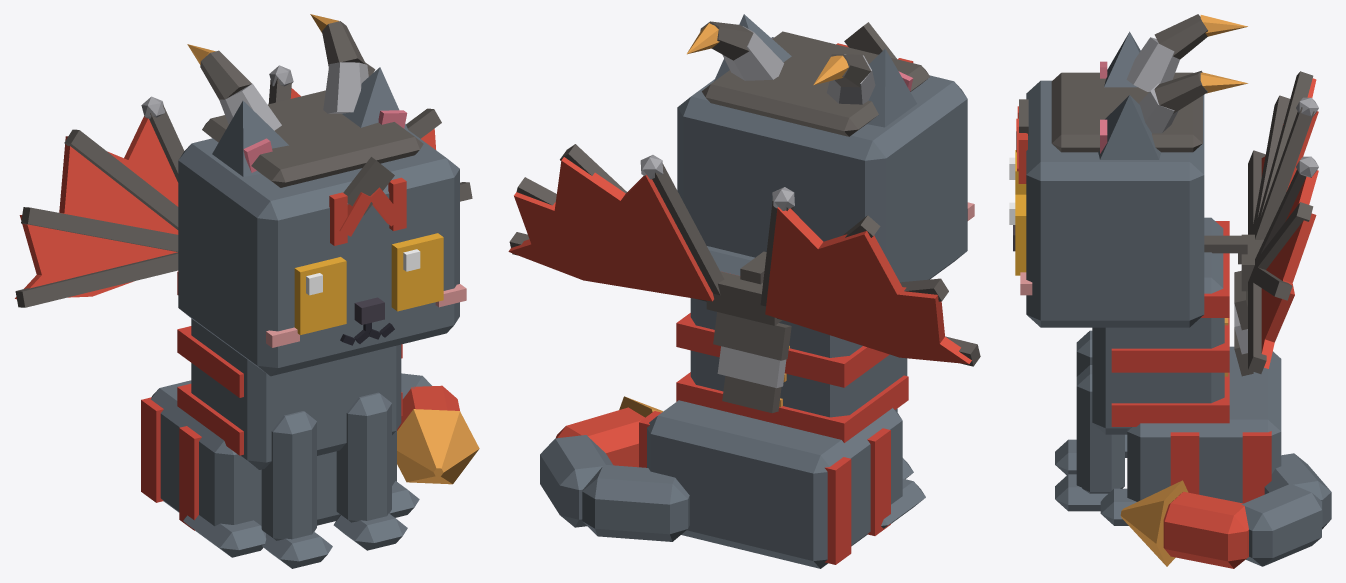
The model's file is CatCafe_Cat_DragonKnight_Sit.glb.
The picture shows the model from 3 angles, left to right: view 1: azimuth 30°, elevation 25°; view 2: azimuth 150°, elevation 25°; view 3: azimuth 270°, elevation 25°; orthographic projection. The views are drawn at different scales.
Parts seen in each view (by area): view 1: CatCafe_Cat_DragonKnight_Sit_Head, CatCafe_Cat_DragonKnight_Sit_Body, CatCafe_Cat_DragonKnight_Sit_Prop2, CatCafe_Cat_DragonKnight_Sit_Prop, CatCafe_Cat_DragonKnight_Sit_LegF1, CatCafe_Cat_DragonKnight_Sit_LegF2, CatCafe_Cat_DragonKnight_Sit_Tail_Ember_Glow, CatCafe_Cat_DragonKnight_Sit_Eye1, CatCafe_Cat_DragonKnight_Sit_Eye2, CatCafe_Cat_DragonKnight_Sit_EarR, CatCafe_Cat_DragonKnight_Sit_EarL, CatCafe_Cat_DragonKnight_Sit_Tail; view 2: CatCafe_Cat_DragonKnight_Sit_Prop2, CatCafe_Cat_DragonKnight_Sit_Body, CatCafe_Cat_DragonKnight_Sit_Head, CatCafe_Cat_DragonKnight_Sit_Prop, CatCafe_Cat_DragonKnight_Sit_Tail, CatCafe_Cat_DragonKnight_Sit_EarR, CatCafe_Cat_DragonKnight_Sit_Horn_Glow, CatCafe_Cat_DragonKnight_Sit_EarL; view 3: CatCafe_Cat_DragonKnight_Sit_Head, CatCafe_Cat_DragonKnight_Sit_Body, CatCafe_Cat_DragonKnight_Sit_Prop2, CatCafe_Cat_DragonKnight_Sit_Prop, CatCafe_Cat_DragonKnight_Sit_Tail, CatCafe_Cat_DragonKnight_Sit_LegF1, CatCafe_Cat_DragonKnight_Sit_EarL, CatCafe_Cat_DragonKnight_Sit_Tail_Ember_Glow, CatCafe_Cat_DragonKnight_Sit_LegF2, CatCafe_Cat_DragonKnight_Sit_EarR, CatCafe_Cat_DragonKnight_Sit_Eye1, CatCafe_Cat_DragonKnight_Sit_Horn_Glow.
Boxes of the visible parts, x1,y1,x2,y2 form: CatCafe_Cat_DragonKnight_Sit_Head: [178, 130, 466, 376]; CatCafe_Cat_DragonKnight_Sit_Body: [141, 271, 419, 557]; CatCafe_Cat_DragonKnight_Sit_Prop2: [15, 62, 472, 307]; CatCafe_Cat_DragonKnight_Sit_Prop: [200, 21, 423, 215]; CatCafe_Cat_DragonKnight_Sit_LegF1: [333, 392, 407, 550]; CatCafe_Cat_DragonKnight_Sit_LegF2: [261, 411, 332, 568]; CatCafe_Cat_DragonKnight_Sit_Tail_Ember_Glow: [397, 409, 479, 484]; CatCafe_Cat_DragonKnight_Sit_Eye1: [391, 233, 443, 311]; CatCafe_Cat_DragonKnight_Sit_Eye2: [294, 257, 346, 334]; CatCafe_Cat_DragonKnight_Sit_EarR: [212, 101, 288, 176]; CatCafe_Cat_DragonKnight_Sit_EarL: [342, 67, 409, 132]; CatCafe_Cat_DragonKnight_Sit_Tail: [397, 373, 459, 430]; CatCafe_Cat_DragonKnight_Sit_Prop2: [508, 144, 980, 413]; CatCafe_Cat_DragonKnight_Sit_Body: [639, 246, 925, 568]; CatCafe_Cat_DragonKnight_Sit_Head: [677, 37, 974, 282]; CatCafe_Cat_DragonKnight_Sit_Prop: [700, 21, 929, 136]; CatCafe_Cat_DragonKnight_Sit_Tail: [540, 407, 689, 541]; CatCafe_Cat_DragonKnight_Sit_EarR: [867, 48, 916, 127]; CatCafe_Cat_DragonKnight_Sit_Horn_Glow: [687, 23, 848, 85]; CatCafe_Cat_DragonKnight_Sit_EarL: [714, 14, 791, 81]; CatCafe_Cat_DragonKnight_Sit_Head: [1013, 80, 1204, 327]; CatCafe_Cat_DragonKnight_Sit_Body: [1092, 217, 1281, 525]; CatCafe_Cat_DragonKnight_Sit_Prop2: [1204, 71, 1318, 376]; CatCafe_Cat_DragonKnight_Sit_Prop: [1019, 14, 1207, 152]; CatCafe_Cat_DragonKnight_Sit_Tail: [1163, 453, 1331, 568]; CatCafe_Cat_DragonKnight_Sit_LegF1: [1055, 365, 1124, 511]; CatCafe_Cat_DragonKnight_Sit_EarL: [1098, 95, 1160, 159]; CatCafe_Cat_DragonKnight_Sit_Tail_Ember_Glow: [1120, 480, 1188, 566]; CatCafe_Cat_DragonKnight_Sit_LegF2: [1055, 330, 1092, 475]; CatCafe_Cat_DragonKnight_Sit_EarR: [1100, 31, 1140, 87]; CatCafe_Cat_DragonKnight_Sit_Eye1: [1009, 194, 1026, 275]; CatCafe_Cat_DragonKnight_Sit_Horn_Glow: [1200, 15, 1247, 93].
Bounding box in the file's own units: 2.51 × 2.54 × 1.65.
Materials: 1 (1 with a texture image).
